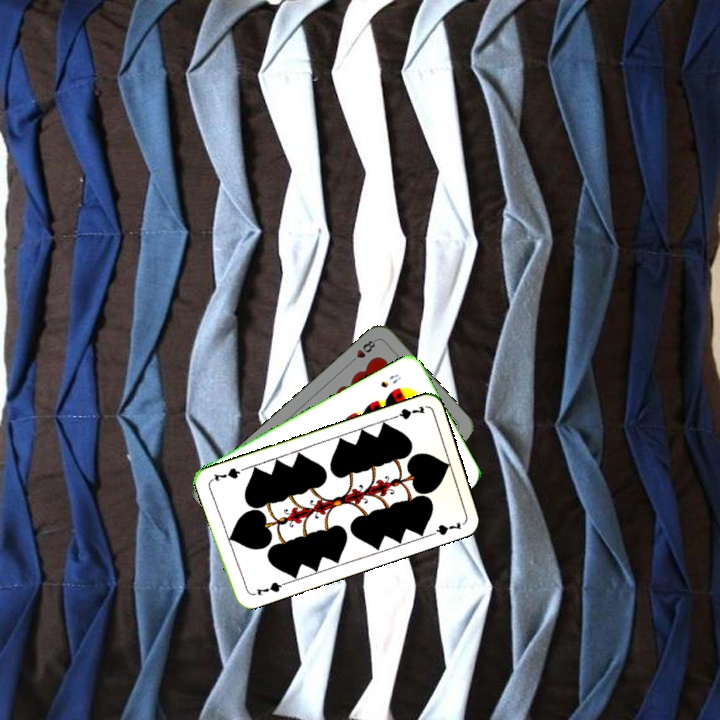G7: (387, 402, 427, 422), (248, 578, 287, 598)
H8: (346, 335, 379, 366)
S8: (376, 370, 403, 390)
